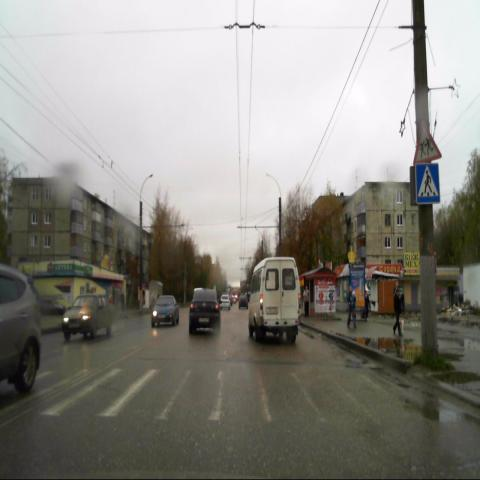1_23: (413, 120, 441, 164)
5_19_1: (416, 163, 440, 203)
